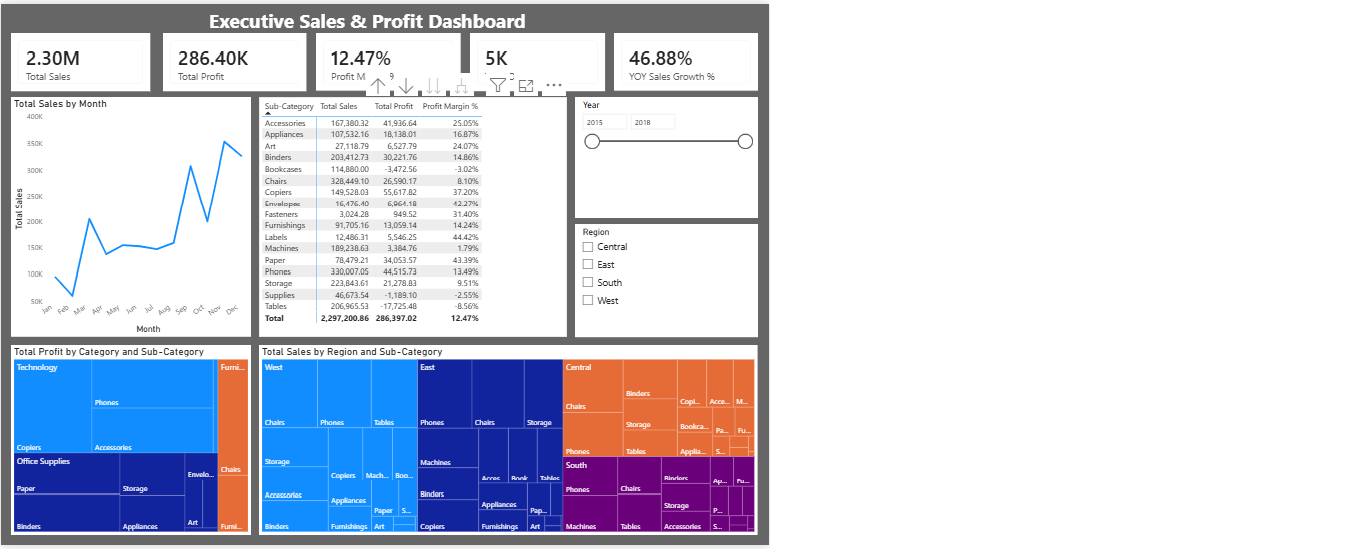

This screenshot's page, from the dashboard's own definition file:
{"tool":"powerbi","page":{"name":"Page 1","canvas":[1280,900],"ordinal":0},"visuals":[{"type":"cardVisual","fields":{"Data":["Fact Orders.Total Sales"]},"box":[16.5,48.2,232.6,97.7],"z":0},{"type":"cardVisual","fields":{"Data":["Fact Orders.Total Profit"]},"box":[269.8,48.2,239.5,97.7],"z":1000},{"type":"cardVisual","fields":{"Data":["Fact Orders.Profit Margin %"]},"box":[525.8,48.4,241.9,96.8],"z":2000},{"type":"cardVisual","fields":{"Data":["Fact Orders.Total Orders"]},"box":[781.4,48.6,225.7,97.1],"z":3000},{"type":"cardVisual","fields":{"Data":["Fact Orders.YOY Sales Growth %"]},"box":[1021,48.4,240.3,96.8],"z":4000},{"type":"slicer","fields":{"Values":["Dim Date.Year"]},"box":[956.5,154.8,304.8,200],"z":5000},{"type":"slicer","fields":{"Values":["Fact Orders.Region"]},"box":[956.5,366.1,304.8,187.1],"z":6000},{"type":"lineChart","fields":{"Category":["Dim Date.Month"],"Y":["Fact Orders.Total Sales"]},"box":[16.1,154.8,400,398.4],"z":7000},{"type":"treemap","fields":{"Group":["Dim Product.Category"],"Details":["Dim Product.Sub-Category"],"Values":["Fact Orders.Total Profit"]},"box":[16.1,567.7,400,314.5],"z":8000},{"type":"treemap","fields":{"Group":["Fact Orders.Region"],"Values":["Fact Orders.Total Sales"],"Details":["Fact Orders.Sub-Category"]},"box":[430.6,567.7,830.6,314.5],"z":9000},{"type":"pivotTable","fields":{"Rows":["Dim Product.Category","Dim Product.Sub-Category"],"Values":["Fact Orders.Total Sales","Fact Orders.Total Profit","Fact Orders.Profit Margin %"]},"box":[430.6,154.8,512.9,398.4],"z":10000},{"type":"textbox","box":[310,0,601.4,64.3],"z":11000}]}

Visuals, with their boxes in screenshot pixels (x1, y1, x2, y2):
cardVisual - Fact Orders.Total Sales: [3, 29, 145, 89]
cardVisual - Fact Orders.Total Profit: [158, 29, 304, 89]
cardVisual - Fact Orders.Profit Margin %: [314, 30, 461, 89]
cardVisual - Fact Orders.Total Orders: [470, 30, 608, 89]
cardVisual - Fact Orders.YOY Sales Growth %: [616, 30, 763, 89]
slicer - Dim Date.Year: [577, 94, 763, 217]
slicer - Fact Orders.Region: [577, 223, 763, 338]
lineChart - Dim Date.Month x Fact Orders.Total Sales: [3, 94, 247, 338]
treemap - Dim Product.Category x Dim Product.Sub-Category: [3, 346, 247, 538]
treemap - Fact Orders.Region x Fact Orders.Total Sales: [256, 346, 763, 538]
pivotTable - Dim Product.Category x Dim Product.Sub-Category: [256, 94, 569, 338]
textbox: [182, 0, 549, 39]
